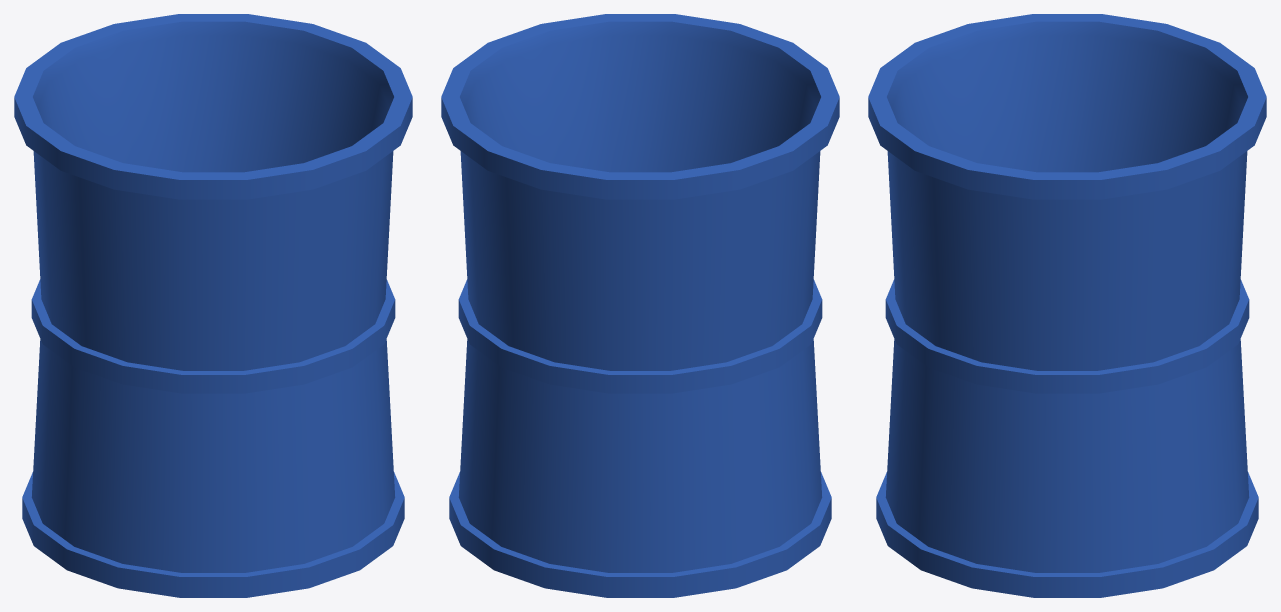
The model's file is Wassertonne.fbx.
3 renders of one model, left to right at view 1: azimuth 30°, elevation 25°; view 2: azimuth 150°, elevation 25°; view 3: azimuth 270°, elevation 25°, orthographic.
Visible parts, largest first — view 1: Cylinder; view 2: Cylinder; view 3: Cylinder.
Part boxes in pixels (x1=…): Cylinder: x1=14, y1=14, x2=412, y2=597; Cylinder: x1=441, y1=14, x2=839, y2=597; Cylinder: x1=868, y1=14, x2=1266, y2=597.
Size of the model in its own units: 216 by 256 by 219.
